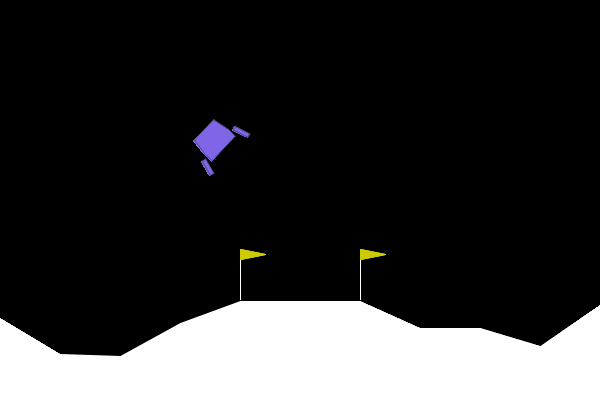lander: (181, 107, 252, 178)
